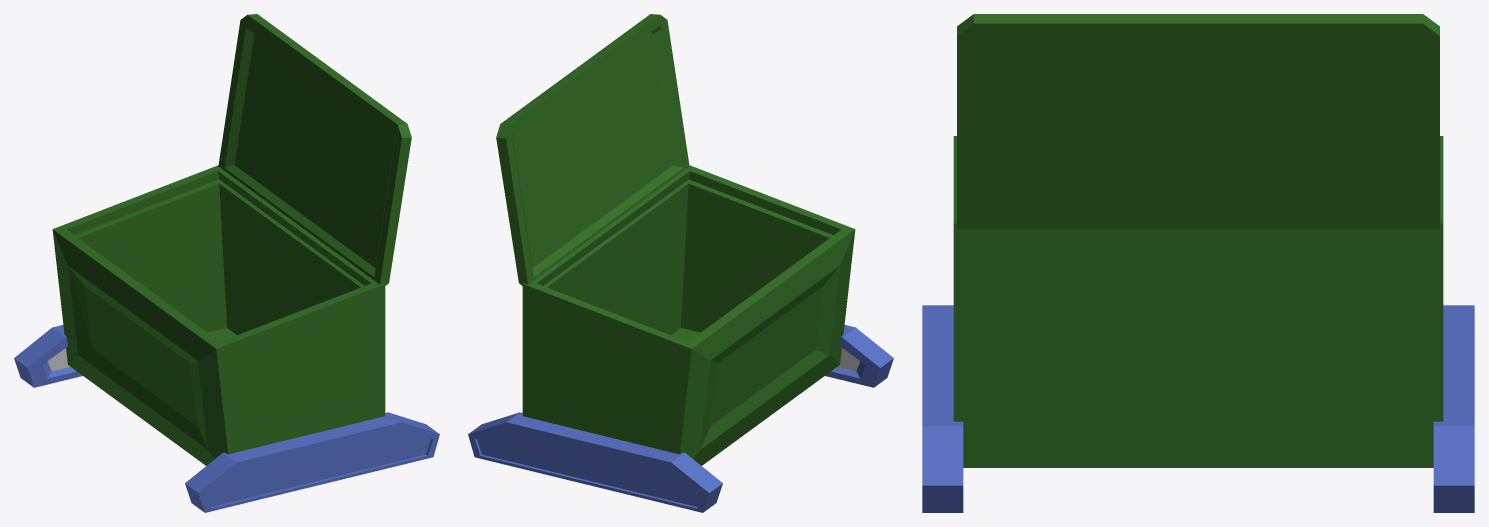
File: Props_004.fbx
3 renders of one model, left to right at view 1: azimuth 30°, elevation 25°; view 2: azimuth 150°, elevation 25°; view 3: azimuth 270°, elevation 25°, orthographic. The views are drawn at different scales.
Parts seen in each view (by area): view 1: Props_004; view 2: Props_004; view 3: Props_004.
Boxes of the visible parts, x1,y1,x2,y2 form: Props_004: (14, 14, 439, 512); Props_004: (468, 14, 893, 512); Props_004: (922, 14, 1474, 512).
Bounding box in the file's own units: 1.53 × 1.97 × 2.03.
